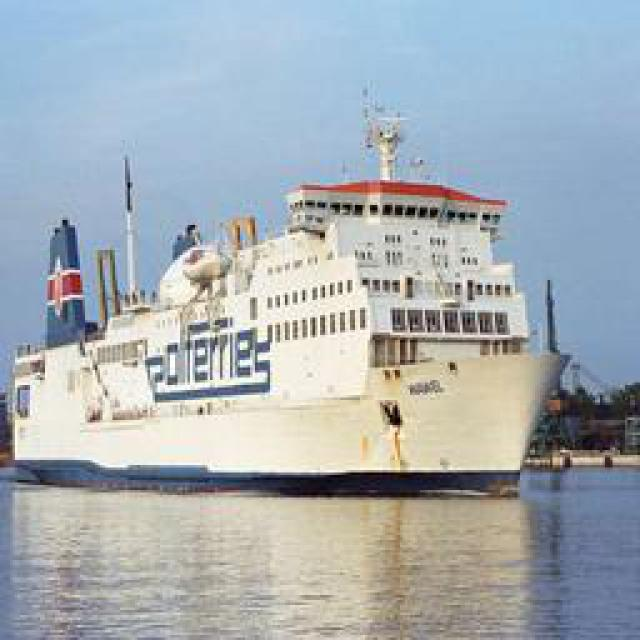Ship: (20, 121, 573, 491)
